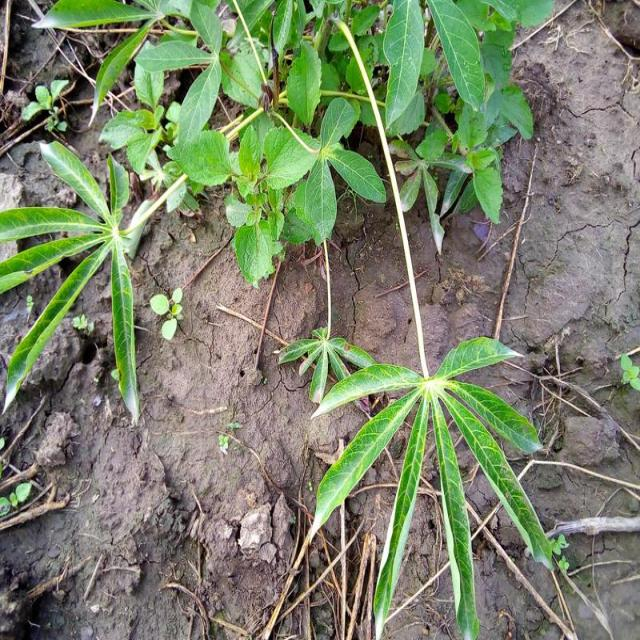cassava leaf: (306, 334, 556, 638)
